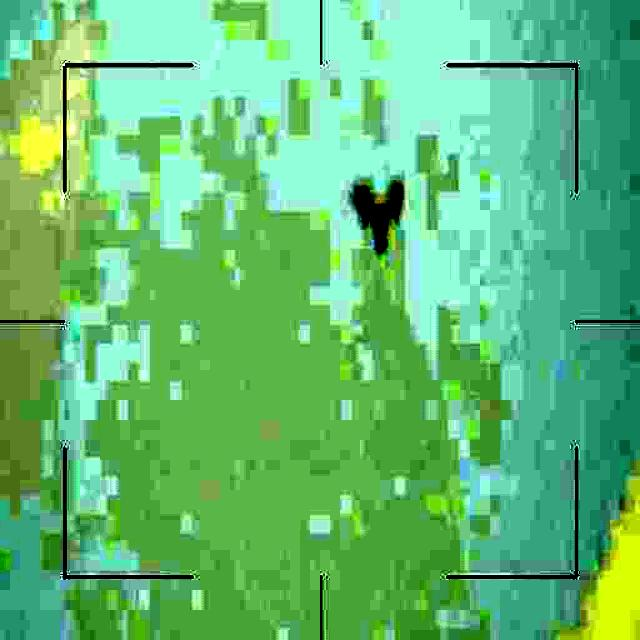bird: (356, 180, 406, 261)
